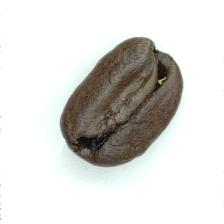NG: (75, 49, 170, 149)
